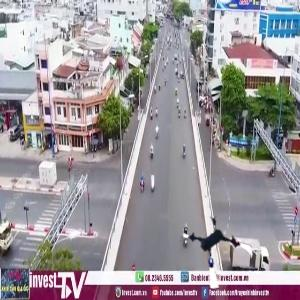drone: (181, 213, 259, 291)
